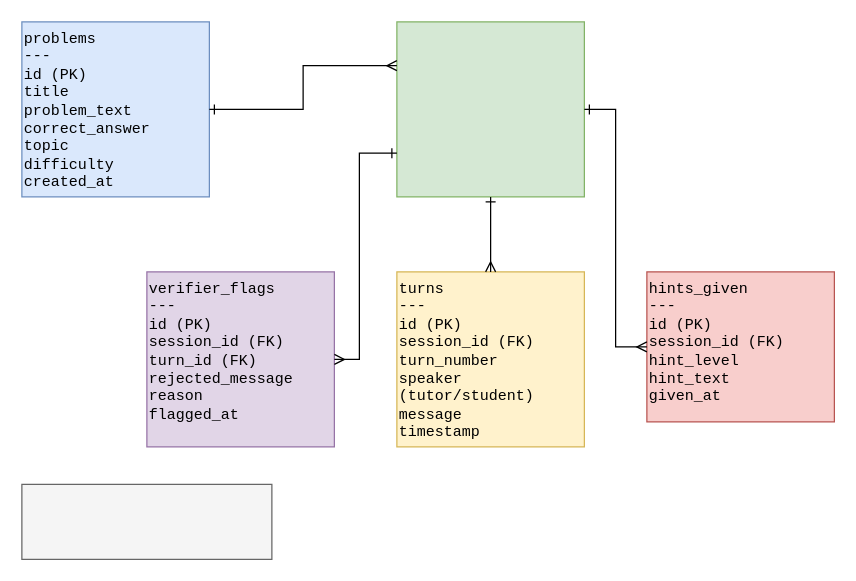
Image size: 856x581. Some labels were removed from this diagram. The shapes that lost their labels are listed below. From the top down, each one's centre as x and y in pixels, then its label:
At (x=490, y=109): "sessions --- id (PK) problem_id (FK) student_id status started_at ended_at".
At (x=146, y=521): "PK = Primary Key FK = Foreign Key One-to-Many relationships shown".
